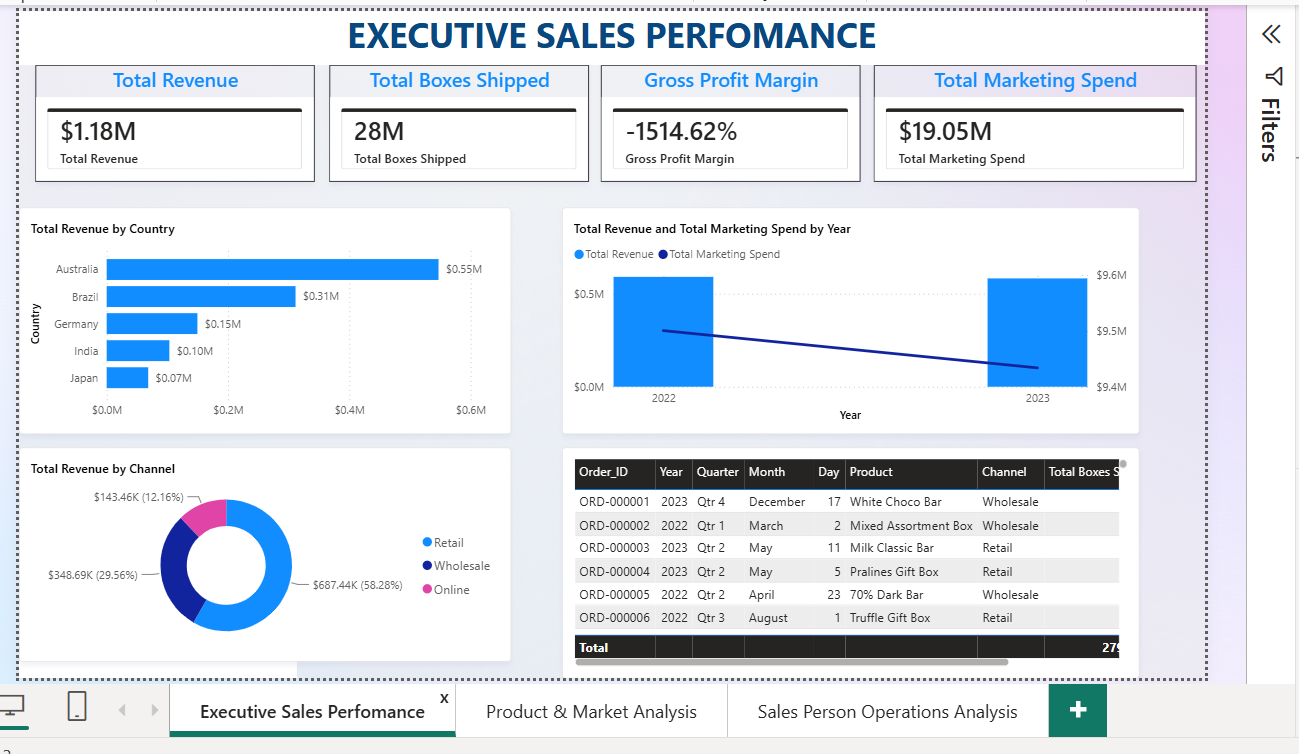

The page's visual inventory and layout, read from the dashboard file:
{"tool":"powerbi","page":{"name":"Executive Sales Perfomance","canvas":[1280,720],"ordinal":0},"visuals":[{"type":"cardVisual","title":"Total Boxes Shipped","fields":{"Data":["Chocolate_Sales.Total Boxes Shipped"]},"box":[318.8,58.2,280.9,141.2],"z":0},{"type":"cardVisual","title":"Net Margin after Marketing Spend","fields":{"Data":["Chocolate_Sales.Gross Profit Margin"]},"box":[618.6,55.3,342.1,142.6],"z":1000},{"type":"cardVisual","title":"Total Marketing Spend","fields":{"Data":["Chocolate_Sales.Total Marketing Spend"]},"box":[978.1,56.8,301.3,141.2],"z":2000},{"type":"cardVisual","title":"Total Revenue","fields":{"Data":["Chocolate_Sales.Total Revenue"]},"box":[0,58.2,301.3,141.2],"z":3000},{"type":"textbox","box":[0,532,300,188],"z":4000},{"type":"textbox","title":"EXECUTIVE SALES PERFOMANCE","box":[0,0,1279.2,58.3],"z":5000},{"type":"clusteredBarChart","fields":{"Category":["Chocolate_Sales.Country"],"Y":["Chocolate_Sales.Total Revenue"]},"box":[0,212.1,531.1,244.5],"z":6000},{"type":"donutChart","fields":{"Category":["Chocolate_Sales.Channel"],"Y":["Chocolate_Sales.Total Revenue"]},"box":[0,471.2,531.1,231.5],"z":7000},{"type":"tableEx","fields":{"Values":["Chocolate_Sales.Order_ID","Chocolate_Sales.Order_Date.Variation.Date Hierarchy.Year","Chocolate_Sales.Order_Date.Variation.Date Hierarchy.Quarter","Chocolate_Sales.Order_Date.Variation.Date Hierarchy.Month","Chocolate_Sales.Order_Date.Variation.Date Hierarchy.Day","Chocolate_Sales.Product","Chocolate_Sales.Channel","Chocolate_Sales.Total Boxes Shipped","Chocolate_Sales.Total Revenue"]},"box":[586.2,471.2,623.4,249.4],"z":8000},{"type":"lineStackedColumnComboChart","fields":{"Category":["Chocolate_Sales.Order_Date.Variation.Date Hierarchy.Year","Chocolate_Sales.Order_Date.Variation.Date Hierarchy.Quarter","Chocolate_Sales.Order_Date.Variation.Date Hierarchy.Month","Chocolate_Sales.Order_Date.Variation.Date Hierarchy.Day"],"Y":["Chocolate_Sales.Total Revenue"],"Y2":["Chocolate_Sales.Total Marketing Spend"]},"box":[586.2,212.1,623.4,244.5],"z":9000}]}

Visuals, with their boxes on the page's 1280x720 design canvas (x1, y1, x2, y2). These are canvas units, not pixel positions in the 1299x754 screenshot, which may show the page scaled, cropped or inside an application window:
"Total Boxes Shipped" cardVisual: bbox=(319, 58, 600, 199)
"Net Margin after Marketing Spend" cardVisual: bbox=(619, 55, 961, 198)
"Total Marketing Spend" cardVisual: bbox=(978, 57, 1279, 198)
"Total Revenue" cardVisual: bbox=(0, 58, 301, 199)
textbox: bbox=(0, 532, 300, 720)
"EXECUTIVE SALES PERFOMANCE" textbox: bbox=(0, 0, 1279, 58)
clusteredBarChart - Chocolate_Sales.Country x Chocolate_Sales.Total Revenue: bbox=(0, 212, 531, 457)
donutChart - Chocolate_Sales.Channel x Chocolate_Sales.Total Revenue: bbox=(0, 471, 531, 703)
tableEx - Chocolate_Sales.Order_ID x Chocolate_Sales.Order_Date.Variation.Date Hierarchy.Year: bbox=(586, 471, 1210, 721)
lineStackedColumnComboChart - Chocolate_Sales.Order_Date.Variation.Date Hierarchy.Year x Chocolate_Sales.Order_Date.Variation.Date Hierarchy.Quarter: bbox=(586, 212, 1210, 457)
